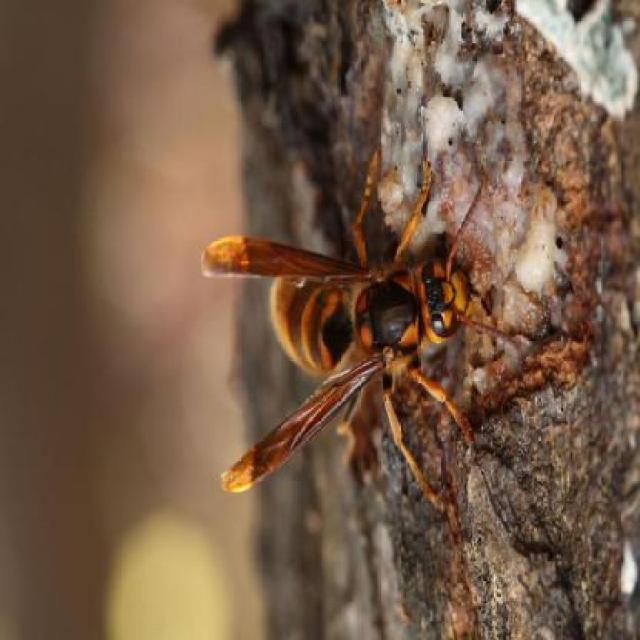Wasp: (188, 130, 542, 517)
